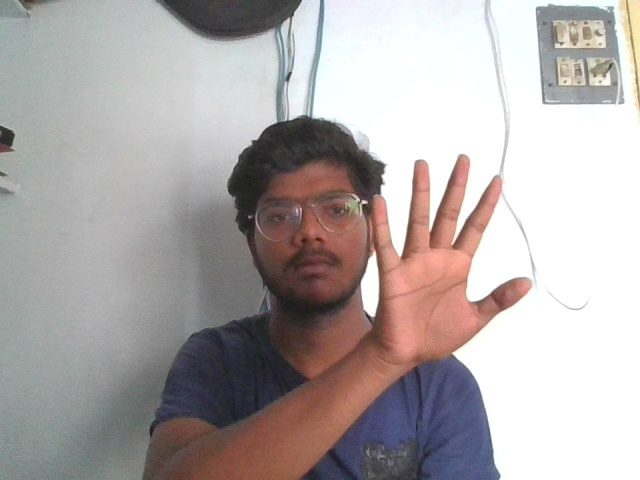Hello: (371, 151, 533, 362)
